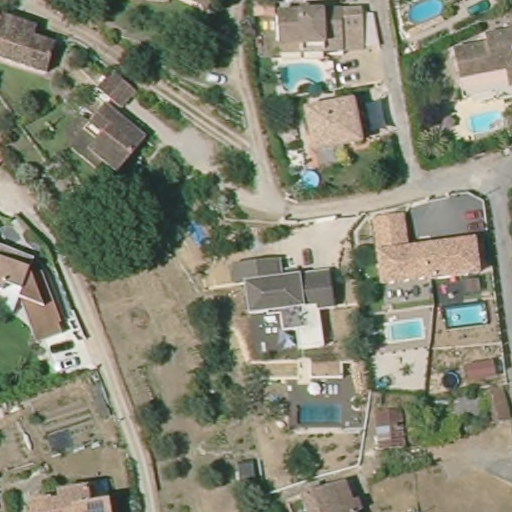pool: (269, 54, 333, 99), (296, 396, 360, 432), (379, 316, 432, 348), (436, 302, 495, 326), (404, 1, 447, 30), (468, 106, 508, 136), (295, 169, 322, 193)
